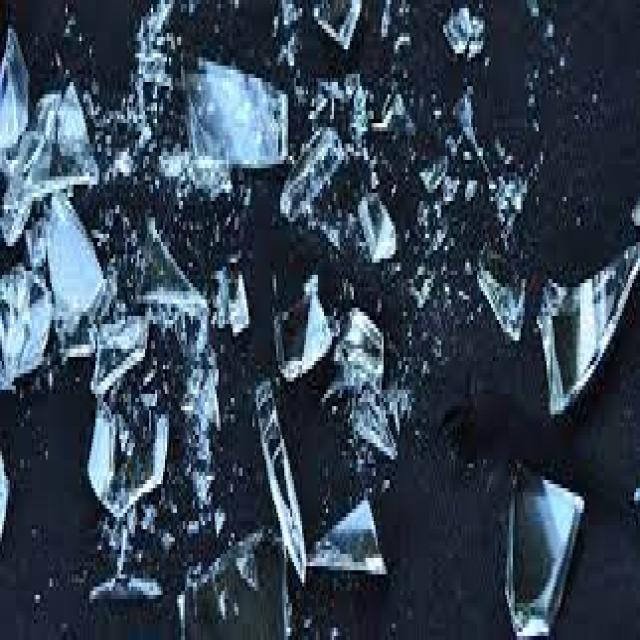glass: (535, 238, 638, 410), (503, 451, 582, 636), (175, 517, 288, 636), (252, 373, 308, 591), (183, 53, 282, 160), (81, 390, 173, 501), (42, 185, 103, 337), (304, 480, 384, 578), (320, 361, 398, 447), (0, 263, 52, 390), (282, 119, 342, 213), (38, 78, 93, 180), (2, 127, 48, 242), (133, 218, 193, 304), (272, 275, 326, 369), (151, 139, 229, 197), (155, 291, 215, 365), (0, 25, 30, 172), (334, 296, 382, 378), (181, 357, 230, 435), (473, 263, 523, 337), (455, 86, 489, 189), (207, 259, 248, 333), (356, 86, 403, 148), (131, 4, 169, 78), (360, 181, 392, 263), (441, 4, 483, 66), (85, 566, 159, 599), (493, 156, 525, 230), (98, 513, 134, 574), (310, 0, 358, 41), (121, 119, 157, 168), (187, 459, 217, 517), (304, 201, 346, 242), (84, 86, 118, 131), (386, 370, 410, 419), (346, 66, 370, 107), (189, 419, 209, 468), (26, 205, 44, 250), (312, 78, 338, 107), (125, 497, 151, 525), (125, 74, 143, 111), (155, 521, 177, 550), (378, 0, 392, 37), (626, 193, 638, 221), (390, 29, 406, 45), (211, 513, 225, 529), (523, 0, 535, 8)
